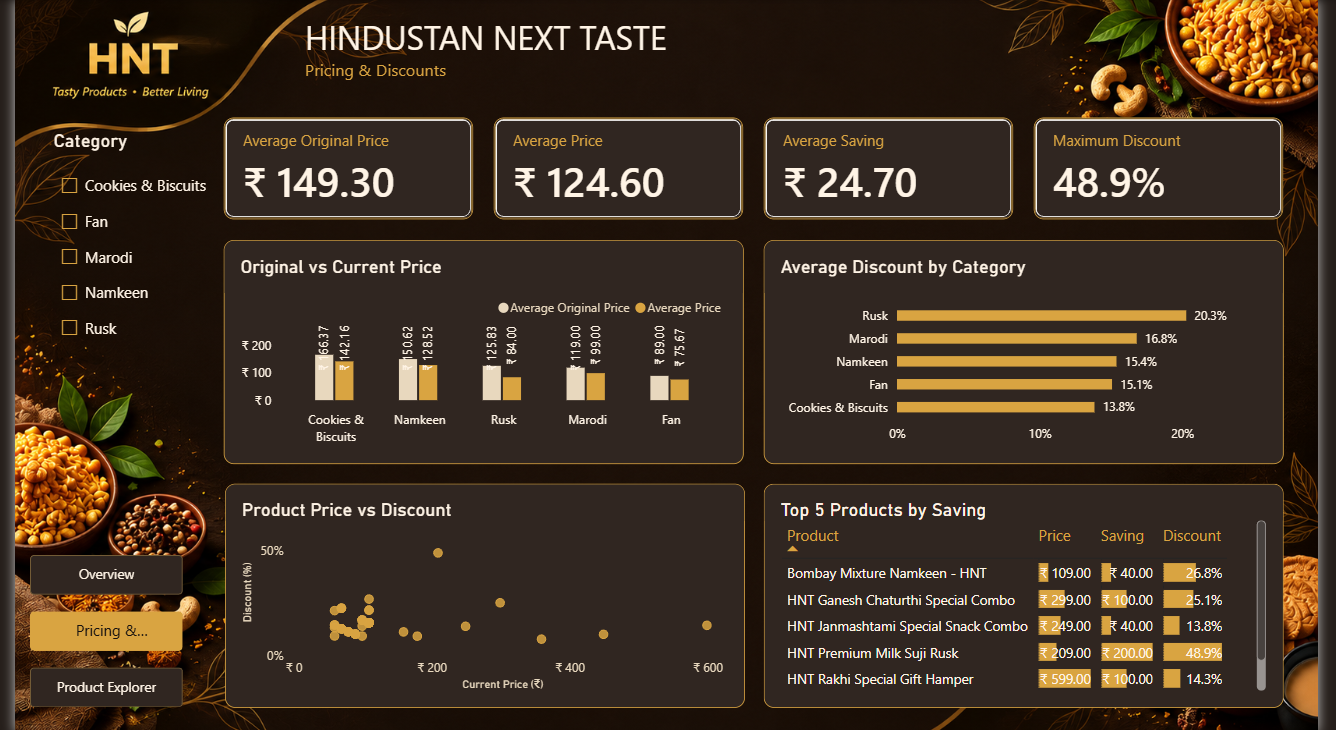

Layout of this report page (visuals, bound fields, positions):
{"tool":"powerbi","page":{"name":"Pricing & Discounts","canvas":[1280,720],"ordinal":1},"visuals":[{"type":"textbox","box":[284.7,15.3,734.7,75],"z":0},{"type":"cardVisual","fields":{"Data":["Shop_Products.Average Original Price"]},"box":[205,115,245,100],"z":1000},{"type":"cardVisual","fields":{"Data":["Products.Average Price"]},"box":[470,115,245,100],"z":2000},{"type":"cardVisual","fields":{"Data":["Shop_Products.Average Saving"]},"box":[735,115,245,100],"z":3000},{"type":"cardVisual","fields":{"Data":["Shop_Products.Maximum Discount"]},"box":[1000,115,245,100],"z":4000},{"type":"clusteredColumnChart","title":"Original vs Current Price","fields":{"Category":["Shop_Products.Category"],"Y":["Shop_Products.Average Original Price","Products.Average Price"]},"box":[205,235,510,220],"z":5000},{"type":"clusteredBarChart","title":"Average Discount by Category","fields":{"Category":["Shop_Products.Category"],"Y":["Products.Average Discount"]},"box":[735.5,235,510,220],"z":6000},{"type":"scatterChart","title":"Product Price vs Discount","fields":{"Category":["Shop_Products.Product_URL"],"X":["Products.Average Price"],"Y":["Products.Average Discount"]},"box":[205.8,475,510,220],"z":7000},{"type":"slicer","title":"Category","fields":{"Values":["Shop_Products.Category"]},"box":[37.5,127.8,149.6,216.8],"z":8000},{"type":"pageNavigator","box":[15.1,544.8,150,150],"z":9000},{"type":"tableEx","title":"Top 5 Products by Saving","fields":{"Values":["Shop_Products.Product_Name","Products.Average Price","Shop_Products.Average Saving","Products.Average Discount"]},"box":[735.5,474.8,510,220],"z":11000}]}

Visuals, with their boxes in screenshot pixels (x1, y1, x2, y2), scaled from the page's 1280x720 canvas onto the 1336x730 screenshot:
textbox: left=297, top=16, right=1064, bottom=92
cardVisual - Shop_Products.Average Original Price: left=214, top=117, right=470, bottom=218
cardVisual - Products.Average Price: left=491, top=117, right=746, bottom=218
cardVisual - Shop_Products.Average Saving: left=767, top=117, right=1023, bottom=218
cardVisual - Shop_Products.Maximum Discount: left=1044, top=117, right=1299, bottom=218
"Original vs Current Price" clusteredColumnChart: left=214, top=238, right=746, bottom=461
"Average Discount by Category" clusteredBarChart: left=768, top=238, right=1300, bottom=461
"Product Price vs Discount" scatterChart: left=215, top=482, right=747, bottom=705
"Category" slicer: left=39, top=130, right=195, bottom=349
pageNavigator: left=16, top=552, right=172, bottom=704
"Top 5 Products by Saving" tableEx: left=768, top=481, right=1300, bottom=704
